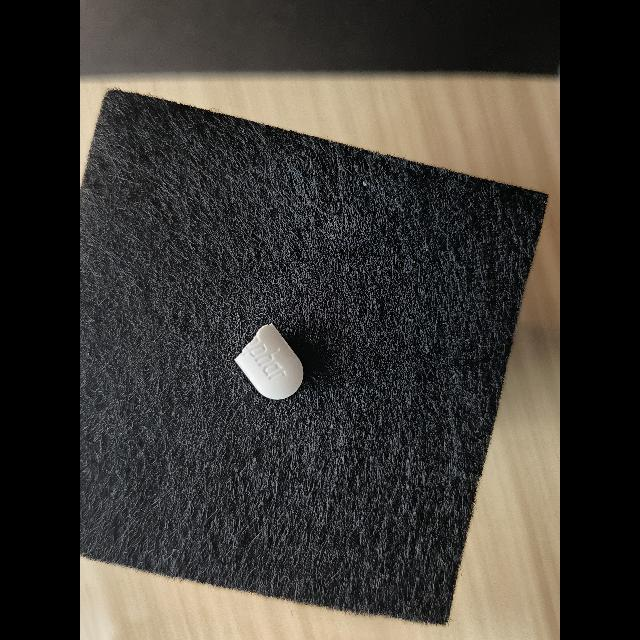Chipped Pill: (234, 323, 303, 400)
